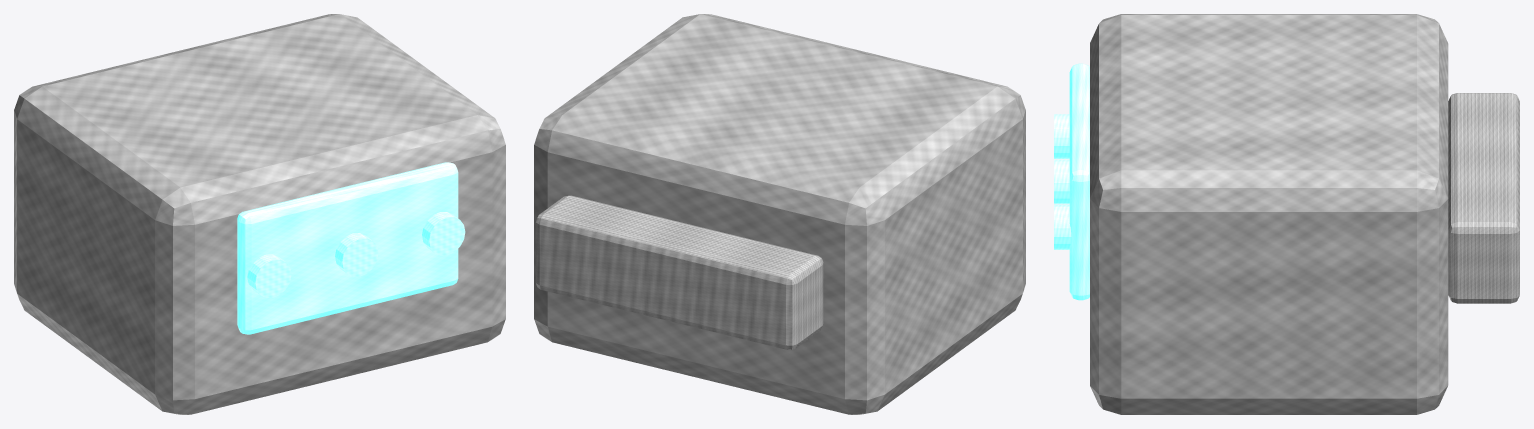
Rendered from item-iron-ore_variant_d.glb.
The picture shows the model from 3 angles, left to right: view 1: azimuth 30°, elevation 25°; view 2: azimuth 150°, elevation 25°; view 3: azimuth 270°, elevation 25°; orthographic projection. The views are drawn at different scales.
Visible parts, largest first — view 1: Component housing, Component faceplate, Face indicator.009, Face indicator.011, Face indicator.010; view 2: Component housing, Variant modular rail; view 3: Component housing, Variant modular rail, Component faceplate, Face indicator.011, Face indicator.010, Face indicator.009.
Part boxes in pixels (<box>): Component housing: <box>14,14,505,414</box>; Component faceplate: <box>237,162,458,334</box>; Face indicator.009: <box>247,254,291,297</box>; Face indicator.011: <box>422,212,465,255</box>; Face indicator.010: <box>335,233,378,276</box>; Component housing: <box>534,14,1025,414</box>; Variant modular rail: <box>535,195,823,349</box>; Component housing: <box>1090,14,1448,414</box>; Variant modular rail: <box>1448,93,1519,303</box>; Component faceplate: <box>1069,63,1089,300</box>; Face indicator.011: <box>1054,205,1071,249</box>; Face indicator.010: <box>1054,159,1069,204</box>; Face indicator.009: <box>1054,114,1069,158</box>.
Size of what is drawn, in the model's own units: 0.48 by 0.3 by 0.52.
4 materials, 4 textured.
